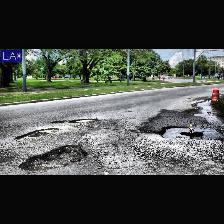pothole: (18, 144, 88, 172), (158, 125, 224, 141), (15, 127, 59, 139), (69, 118, 97, 122), (50, 121, 64, 123)
